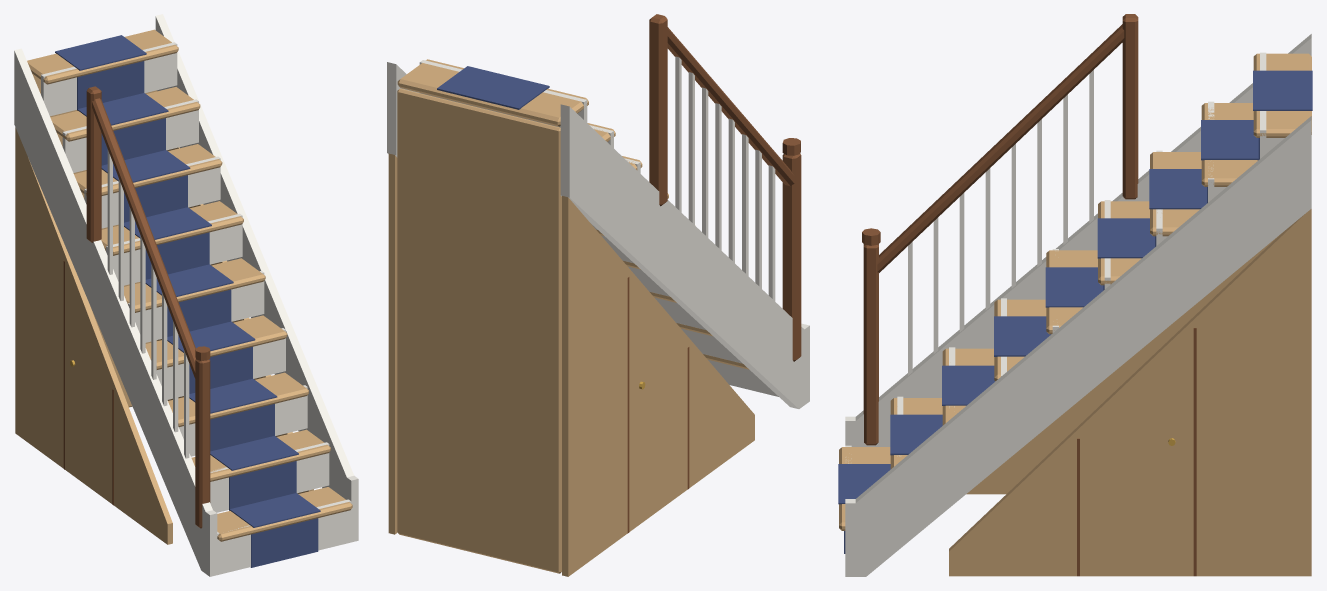
Rendered from stair_n.glb.
3 views of the same model, side by side, from view 1: azimuth 30°, elevation 25°; view 2: azimuth 150°, elevation 25°; view 3: azimuth 270°, elevation 25° (orthographic). The views are drawn at different scales.
Visible parts, largest first — view 1: stair_n_Body; view 2: stair_n_Body; view 3: stair_n_Body.
Part boxes in pixels (x1,y1,x2,y2): stair_n_Body: (14, 14, 358, 576); stair_n_Body: (387, 14, 809, 576); stair_n_Body: (838, 14, 1312, 576).
Size of the model in its own units: 0.8 by 2 by 1.8.
